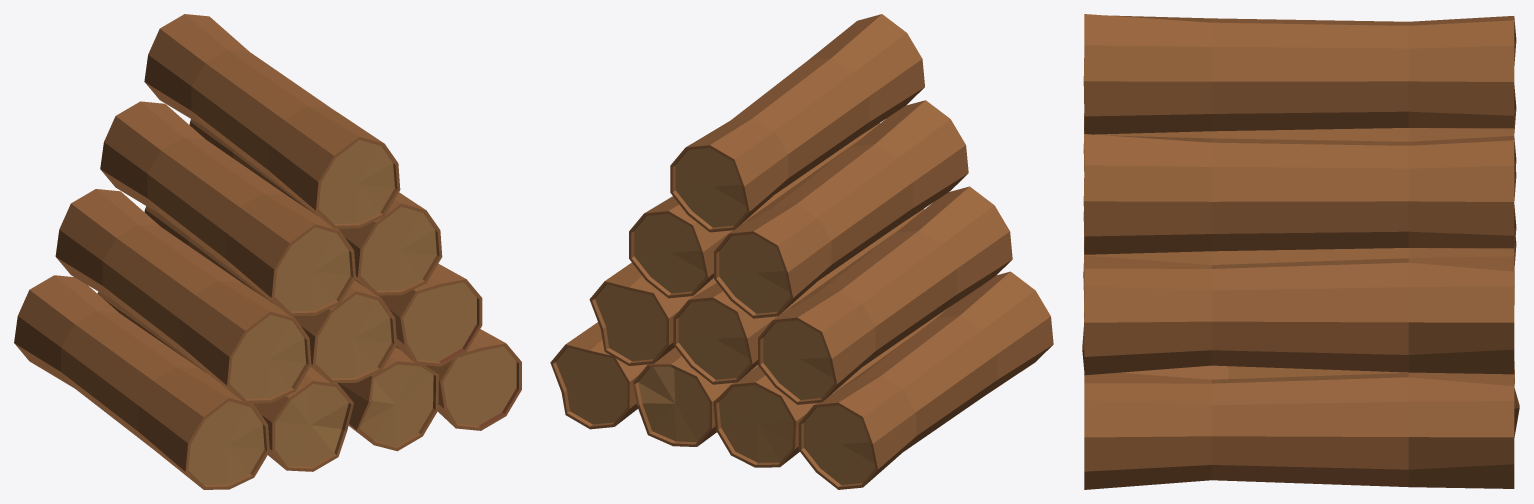
The model's file is Woods.fbx.
3 renders of one model, left to right at view 1: azimuth 30°, elevation 25°; view 2: azimuth 150°, elevation 25°; view 3: azimuth 270°, elevation 25°, orthographic. The views are drawn at different scales.
Visible parts, largest first — view 1: Woods; view 2: Woods; view 3: Woods.
Part boxes in pixels (x1,y1,x2,y2): Woods: (14, 14, 521, 489); Woods: (550, 14, 1053, 489); Woods: (1082, 14, 1519, 489).
Size of the model in its own units: 54.94 by 50.53 by 50.28.
